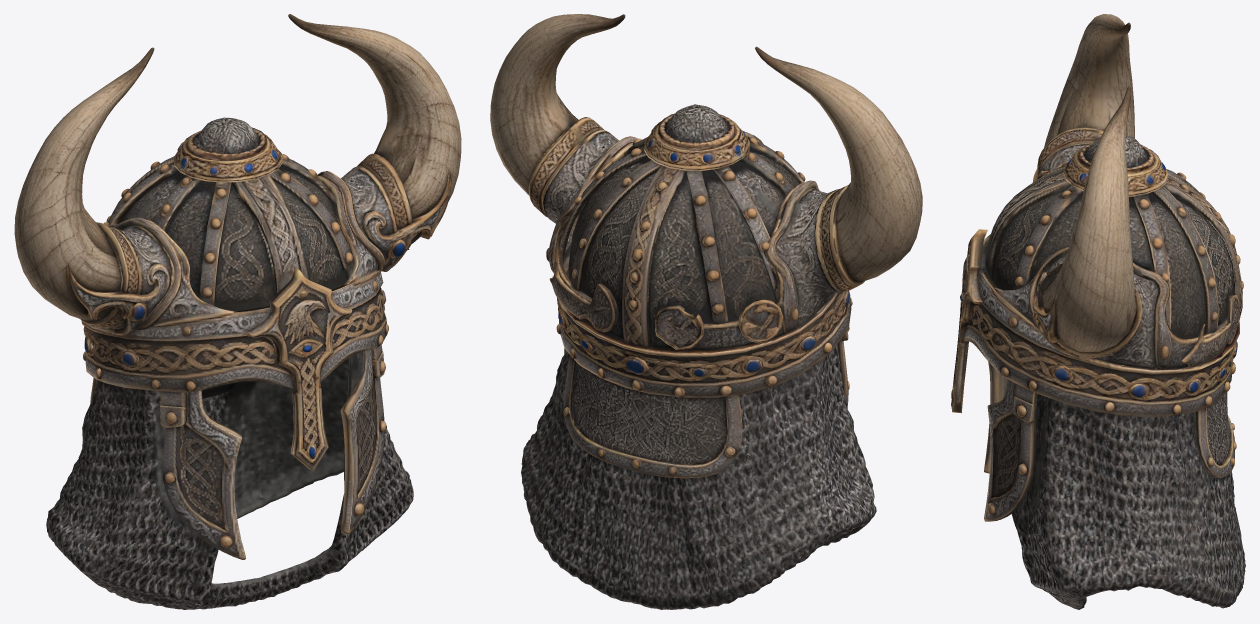
The model's file is tripo-helmet.glb.
The picture shows the model from 3 angles, left to right: view 1: azimuth 30°, elevation 25°; view 2: azimuth 150°, elevation 25°; view 3: azimuth 270°, elevation 25°; orthographic projection. The views are drawn at different scales.
Parts seen in each view (by area): view 1: tripo_node_8e3b1e2a; view 2: tripo_node_8e3b1e2a; view 3: tripo_node_8e3b1e2a.
Boxes of the visible parts, x1,y1,x2,y2 form: tripo_node_8e3b1e2a: (14,14,461,609); tripo_node_8e3b1e2a: (490,14,922,609); tripo_node_8e3b1e2a: (951,14,1245,609).
Size of the model in its own units: 0.8276 by 0.9995 by 0.5054.
1 material, 1 textured.
